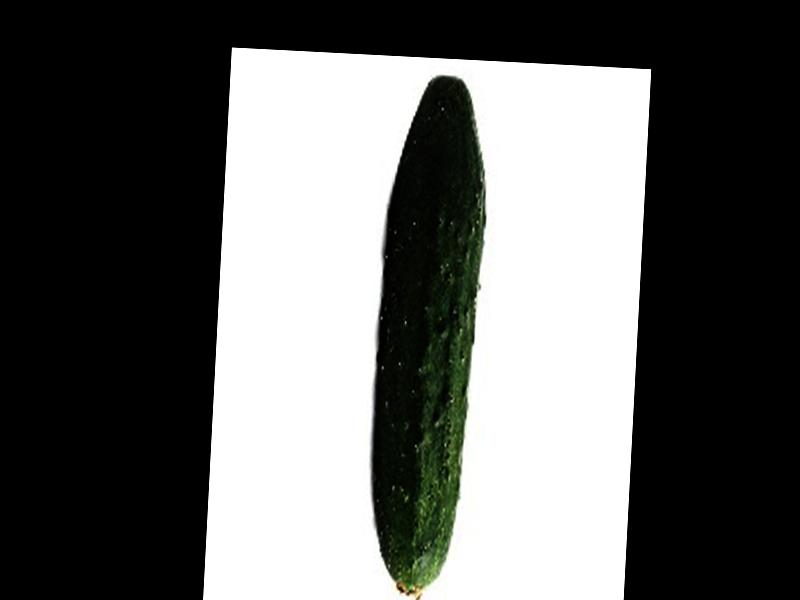Cucumber: (366, 72, 491, 600)
